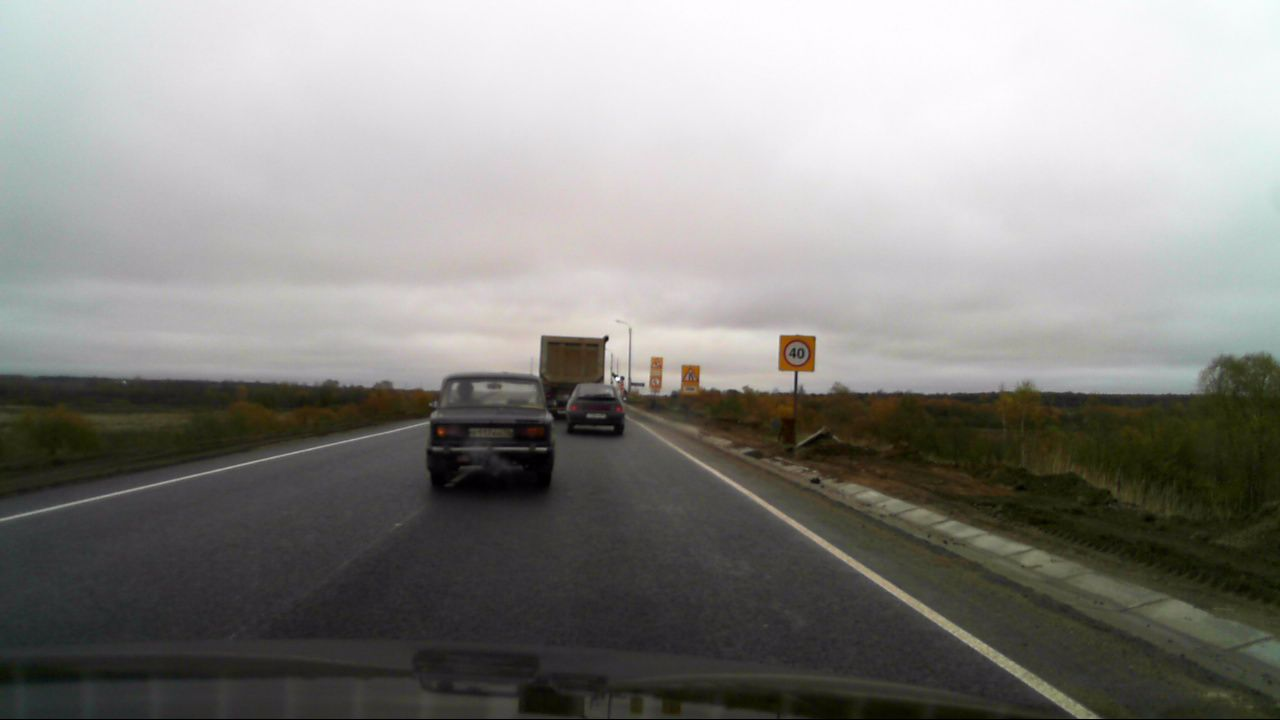speed_warning_40: (779, 335, 814, 372)
